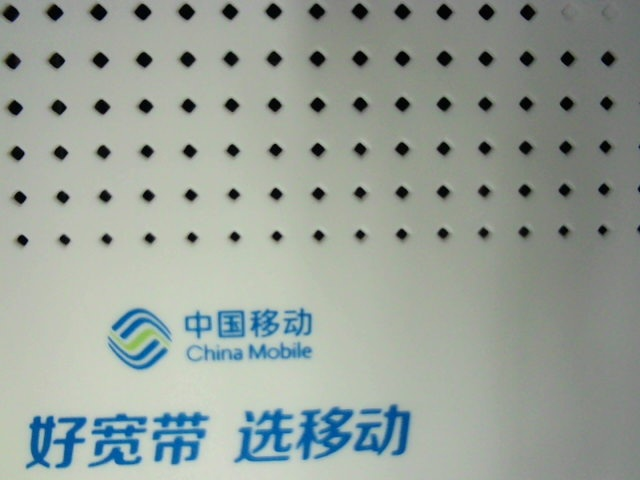AA_ChinaMoble: (13, 292, 417, 466)
